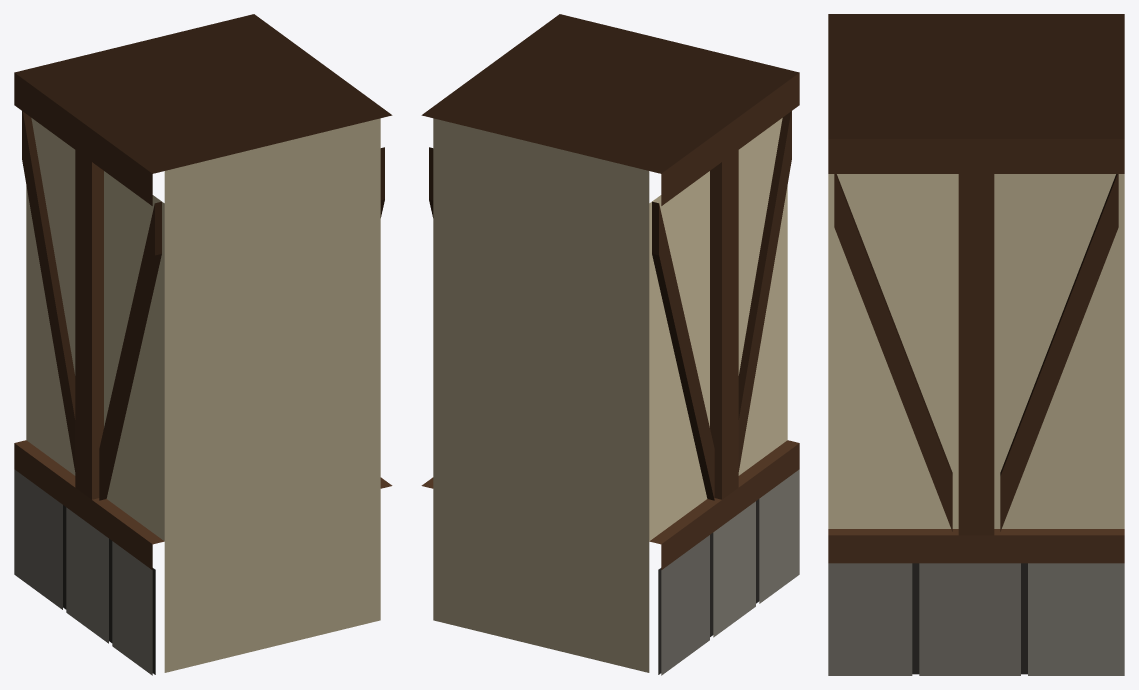
The model's file is tile_house_wall_3_3.glb.
3 views of the same model, side by side, from view 1: azimuth 30°, elevation 25°; view 2: azimuth 150°, elevation 25°; view 3: azimuth 270°, elevation 25° (orthographic). The views are drawn at different scales.
Visible parts, largest first — view 1: tile_house_wall_3_3; view 2: tile_house_wall_3_3; view 3: tile_house_wall_3_3.
Part boxes in pixels (x1=…): tile_house_wall_3_3: x1=14, y1=14, x2=392, y2=675; tile_house_wall_3_3: x1=421, y1=14, x2=799, y2=675; tile_house_wall_3_3: x1=828, y1=14, x2=1124, y2=675.
Size of the model in its own units: 1 by 2 by 1.
